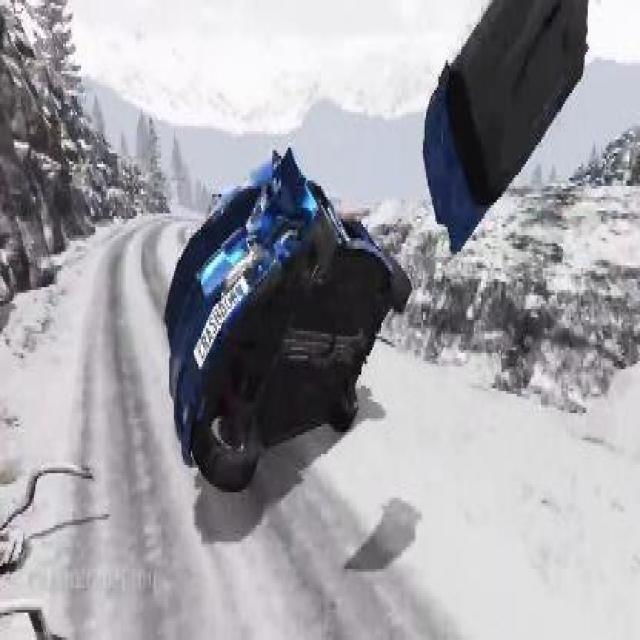accident: (162, 139, 412, 487)
